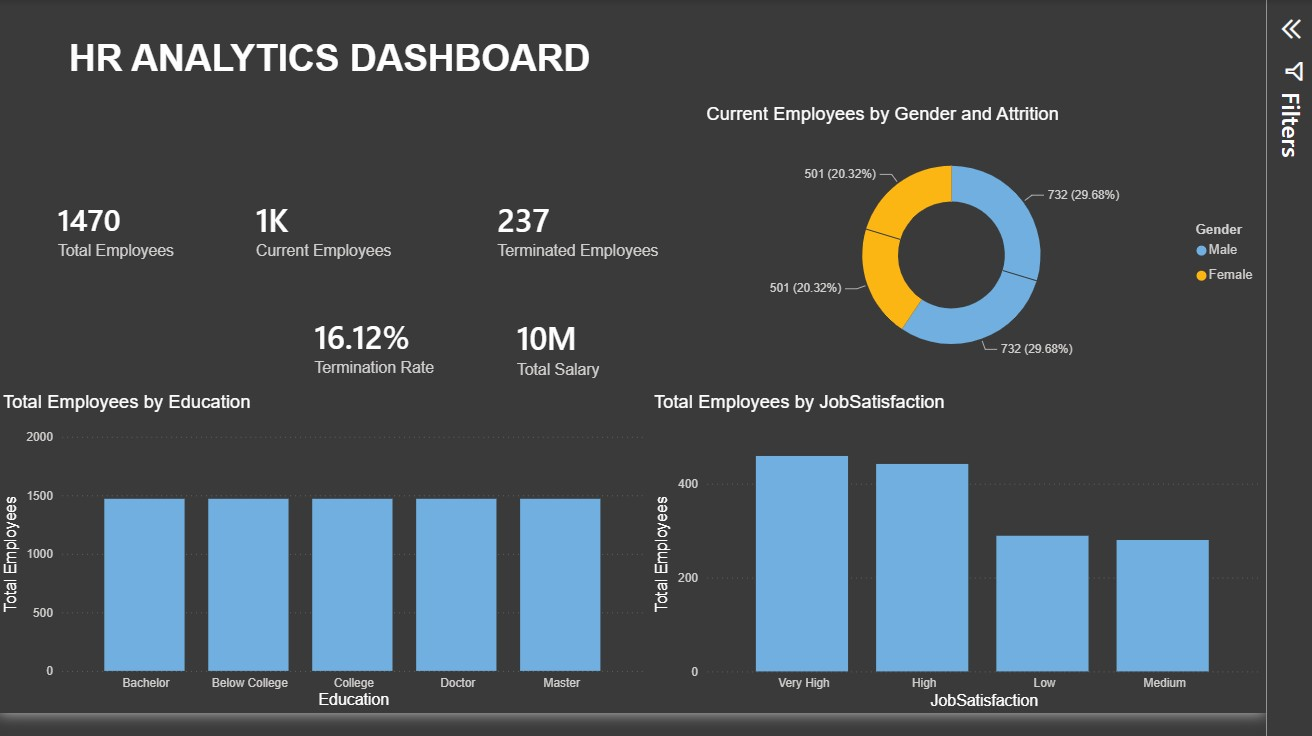

The page's visual inventory and layout, read from the dashboard file:
{"tool":"powerbi","page":{"name":"Page 1","canvas":[1280,720],"ordinal":0},"visuals":[{"type":"cardVisual","fields":{"Data":["Dataset.Total Employees"]},"box":[30.3,169.6,199.9,121.1],"z":0},{"type":"cardVisual","fields":{"Data":["Dataset.Current Employees"]},"box":[230.2,169.6,212,121.1],"z":1000},{"type":"cardVisual","fields":{"Data":["Dataset.Terminated Employees"]},"box":[473.9,169.6,236.2,121.1],"z":2000},{"type":"cardVisual","fields":{"Data":["Dataset.Termination Rate"]},"box":[289.2,290.7,196.5,115.3],"z":3000},{"type":"cardVisual","fields":{"Data":["Dataset.Total Salary"]},"box":[493.6,290.7,196.5,117.2],"z":4000},{"type":"donutChart","fields":{"Category":["Employee.Gender"],"Y":["Dataset.Current Employees"],"Series":["Employee.Attrition"]},"box":[710.2,104.5,570.9,274.1],"z":5000},{"type":"clusteredColumnChart","fields":{"Y":["Dataset.Total Employees"],"Category":["Dataset.Education"]},"box":[0,395,657.6,325],"z":6000},{"type":"clusteredColumnChart","fields":{"Category":["Employee.JobSatisfaction"],"Y":["Dataset.Total Employees"]},"box":[657.2,395.2,622.3,325.6],"z":7000},{"type":"textbox","box":[66.6,31.8,623.9,113.6],"z":7001}]}

Visuals, with their boxes on the page's 1280x720 design canvas (x1, y1, x2, y2). These are canvas units, not pixel positions in the 1312x736 screenshot, which may show the page scaled, cropped or inside an application window:
cardVisual - Dataset.Total Employees: Rect(30, 170, 230, 291)
cardVisual - Dataset.Current Employees: Rect(230, 170, 442, 291)
cardVisual - Dataset.Terminated Employees: Rect(474, 170, 710, 291)
cardVisual - Dataset.Termination Rate: Rect(289, 291, 486, 406)
cardVisual - Dataset.Total Salary: Rect(494, 291, 690, 408)
donutChart - Employee.Gender x Dataset.Current Employees: Rect(710, 104, 1281, 379)
clusteredColumnChart - Dataset.Total Employees x Dataset.Education: Rect(0, 395, 658, 720)
clusteredColumnChart - Employee.JobSatisfaction x Dataset.Total Employees: Rect(657, 395, 1280, 721)
textbox: Rect(67, 32, 690, 145)
